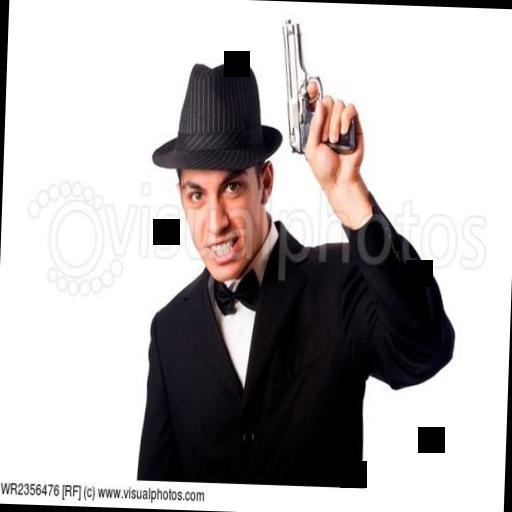Handgun: (276, 14, 360, 160)
